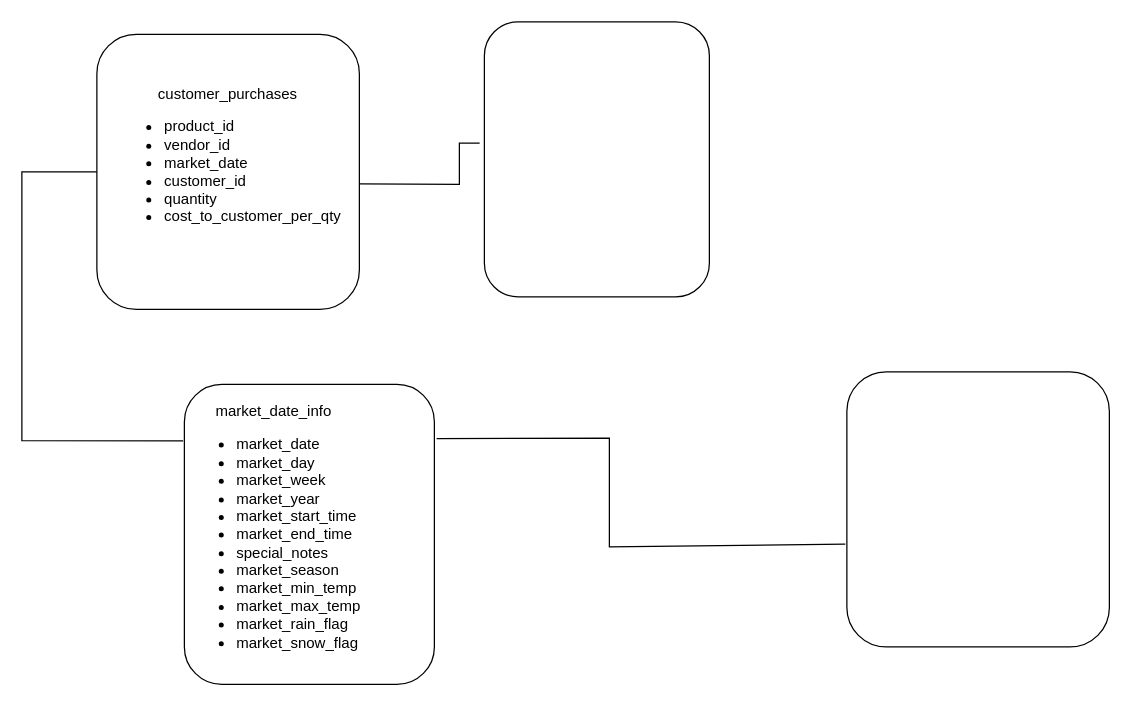
Some shapes in this 1131 by 706 pixel diagram are drawn without their labels. The shapes that lost their labels are listed below. From the top down, each one's box as (x1, y1, x2, y2) in pixels, then its label:
(483, 21, 709, 297): customer customer_id customer_first_name customer_last_name customer_zip
(846, 371, 1109, 647): vendor_booth_assignments vendor_id booth_number market_date
